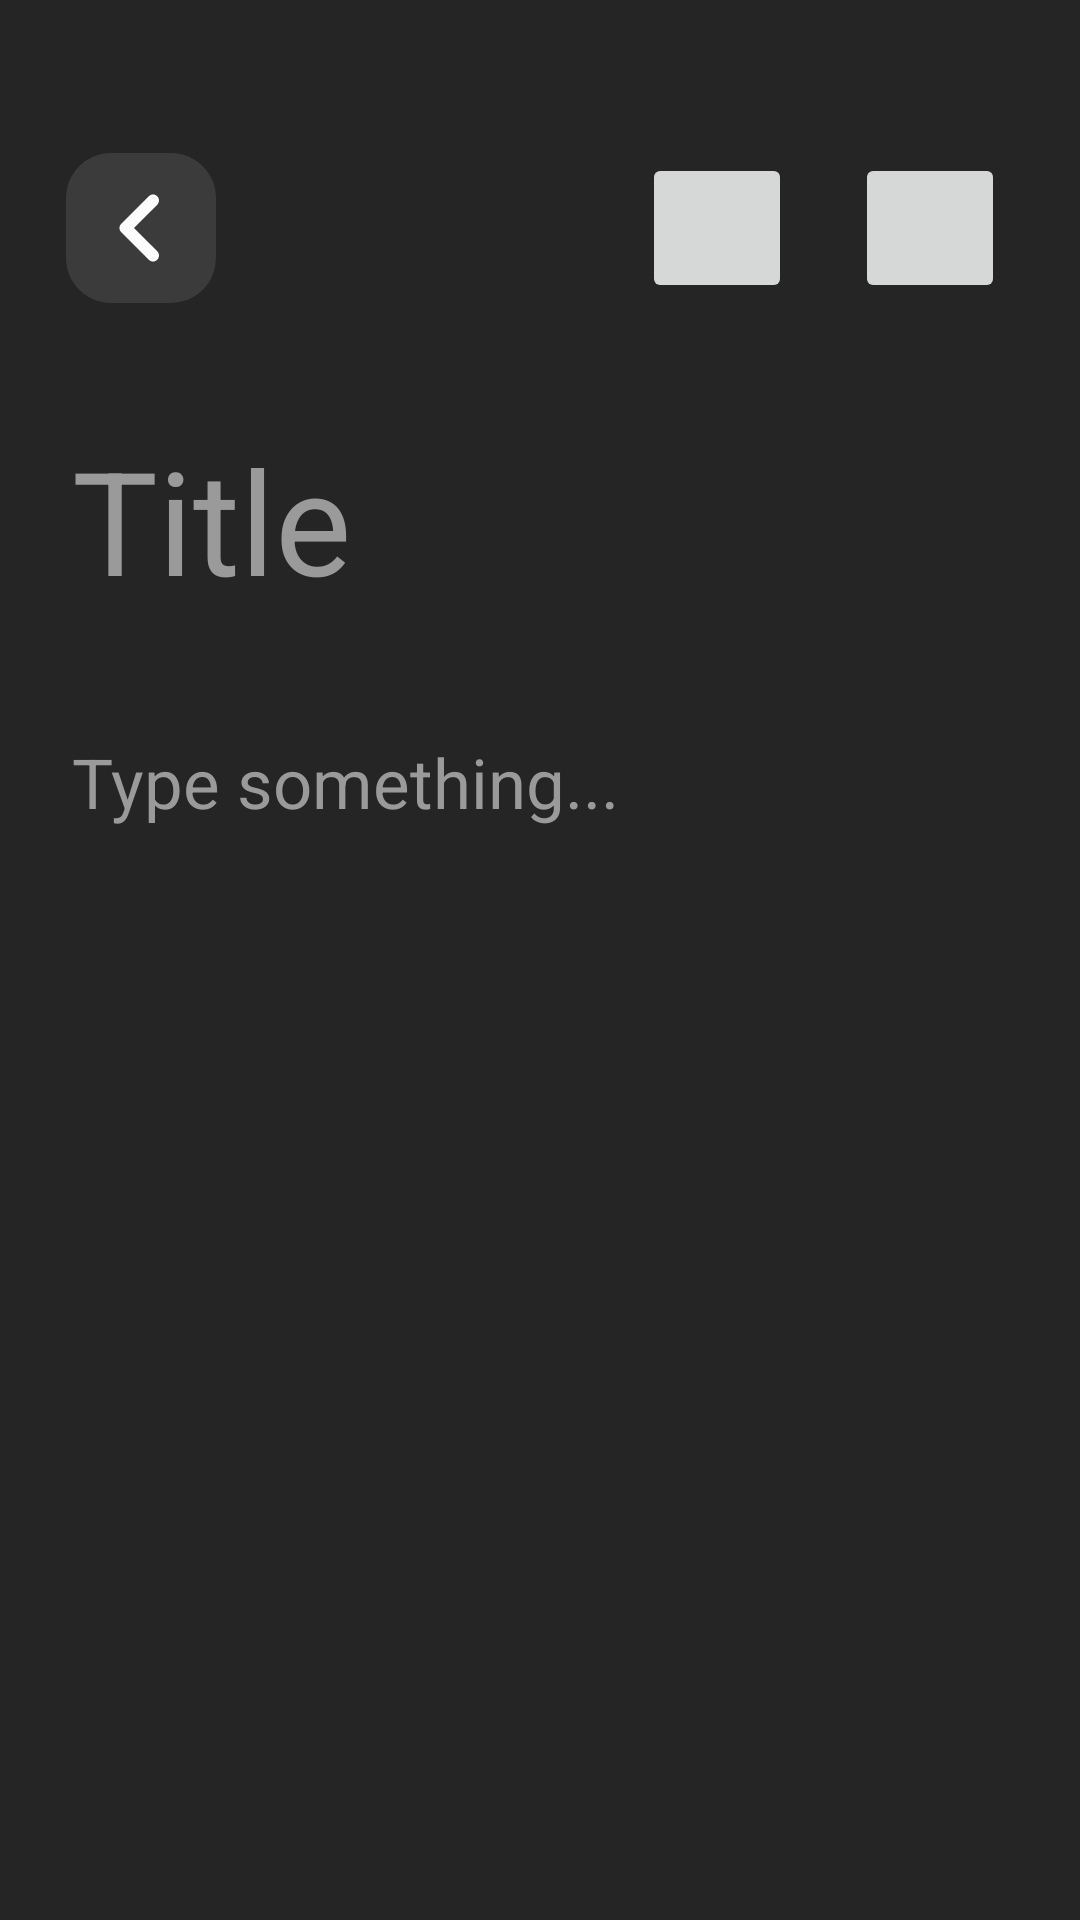

Icon click points for this 1080 x 1920 phone screenshot, format [x,y]:
go back: [141,228]
